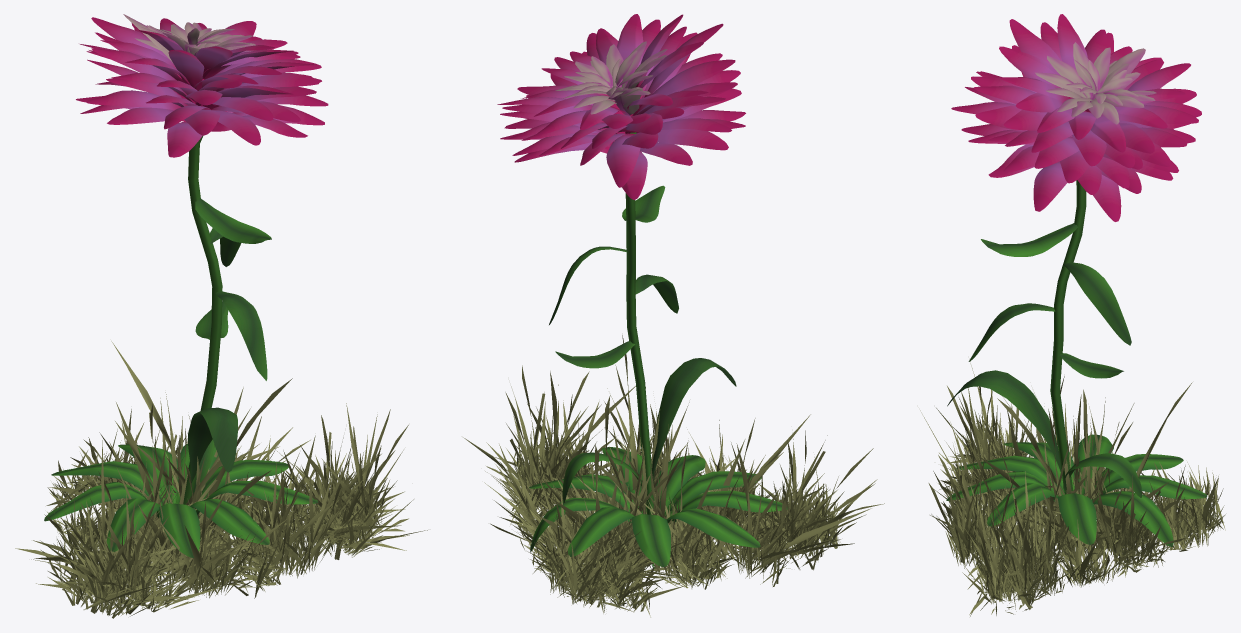
File: Georgina Gallery Bellini.fbx
The picture shows the model from 3 angles, left to right: view 1: azimuth 30°, elevation 25°; view 2: azimuth 150°, elevation 25°; view 3: azimuth 270°, elevation 25°; orthographic projection. The views are drawn at different scales.
Parts seen in each view (by area): view 1: grass_m, flower_m, leaves_2_m, leaves_m; view 2: grass_m, flower_m, leaves_2_m, leaves_m; view 3: flower_m, grass_m, leaves_m, leaves_2_m.
Boxes of the visible parts, x1,y1,x2,y2 form: grass_m: (15,341,427,618); flower_m: (76,14,328,157); leaves_2_m: (44,444,318,557); leaves_m: (183,136,271,504); grass_m: (463,335,884,617); flower_m: (497,14,745,199); leaves_2_m: (529,447,789,568); leaves_m: (549,132,736,514); flower_m: (951,14,1201,221); grass_m: (920,363,1225,616); leaves_m: (947,180,1141,497); leaves_2_m: (946,434,1207,546).
Bounding box in the file's own units: 17.02 × 21.96 × 12.01.
